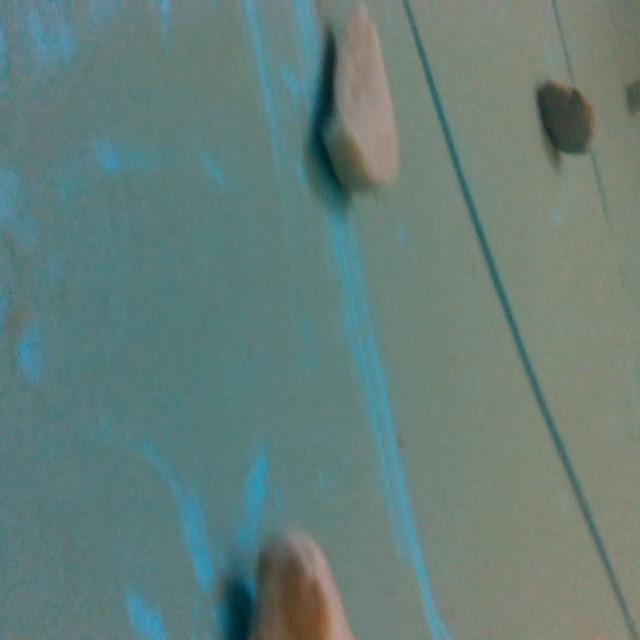rock: (315, 0, 410, 195), (244, 524, 359, 640), (537, 78, 597, 161)
